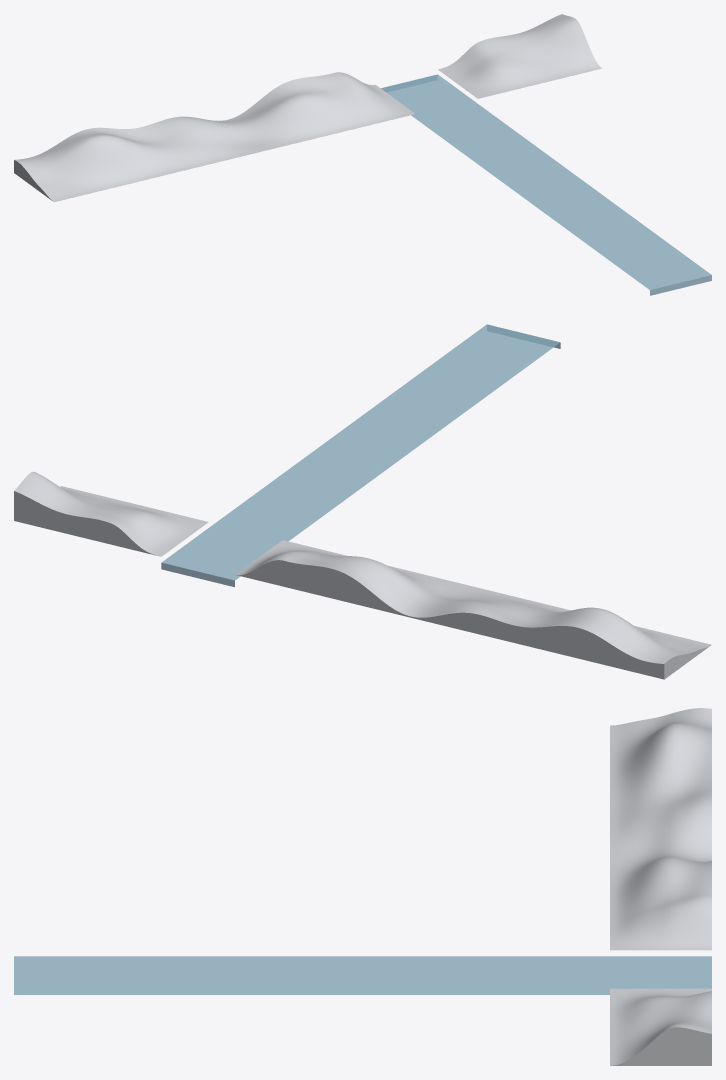
The model's file is 06_Moldeado_Agua.glb.
3 views of the same model, one above another, from view 1: azimuth 30°, elevation 25°; view 2: azimuth 150°, elevation 25°; view 3: azimuth 270°, elevation 25° (orthographic). The views are drawn at different scales.
Parts seen in each view (by area): view 1: Basura_Colinas_Oeste, Basura_Agua_Rio, Basura_Colinas_Este; view 2: Basura_Agua_Rio, Basura_Colinas_Oeste, Basura_Colinas_Este; view 3: Basura_Agua_Rio, Basura_Colinas_Oeste, Basura_Colinas_Este.
Part boxes in pixels (x1,y1,x2,y2): Basura_Colinas_Oeste: [14, 72, 414, 202]; Basura_Agua_Rio: [381, 74, 711, 295]; Basura_Colinas_Este: [438, 14, 601, 98]; Basura_Agua_Rio: [161, 324, 560, 587]; Basura_Colinas_Oeste: [235, 540, 711, 679]; Basura_Colinas_Este: [14, 471, 208, 556]; Basura_Agua_Rio: [14, 956, 711, 994]; Basura_Colinas_Oeste: [610, 708, 711, 950]; Basura_Colinas_Este: [610, 988, 711, 1065].
Bounding box in the file's own units: 600 × 42.87 × 520.
